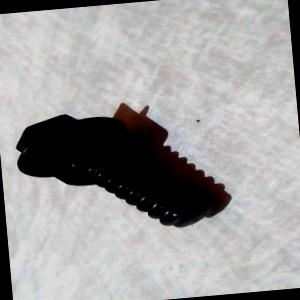parafuso: (10, 99, 222, 244)
